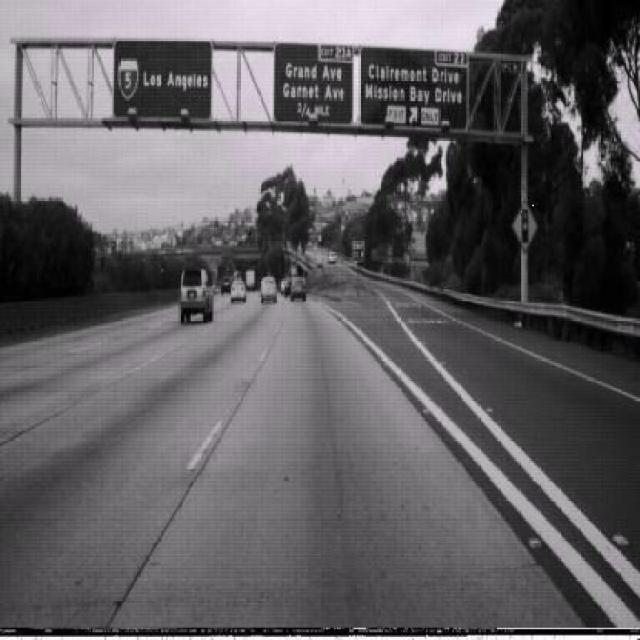signalAhead: (511, 197, 538, 253)
